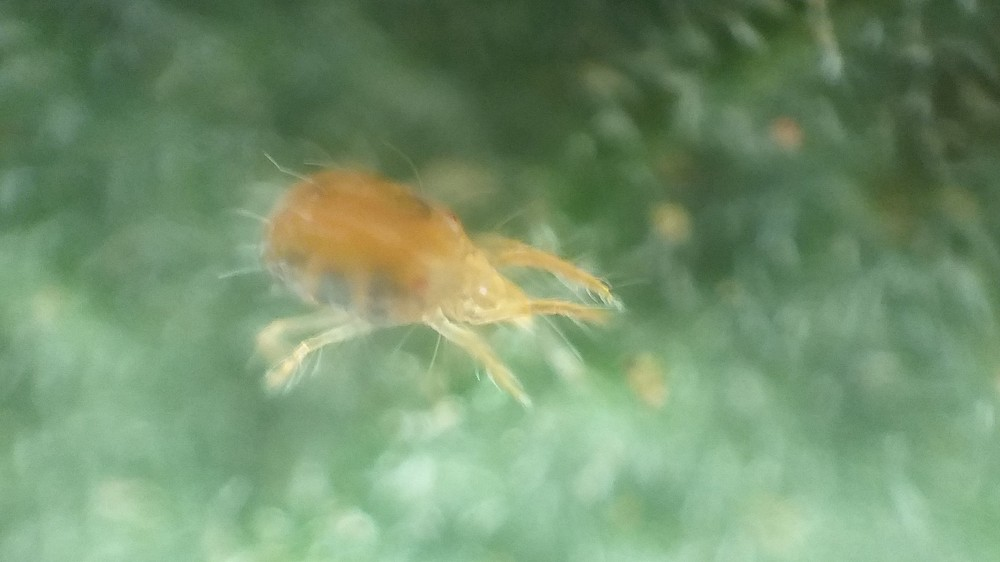Aracnido Rojo: (229, 136, 636, 425)
